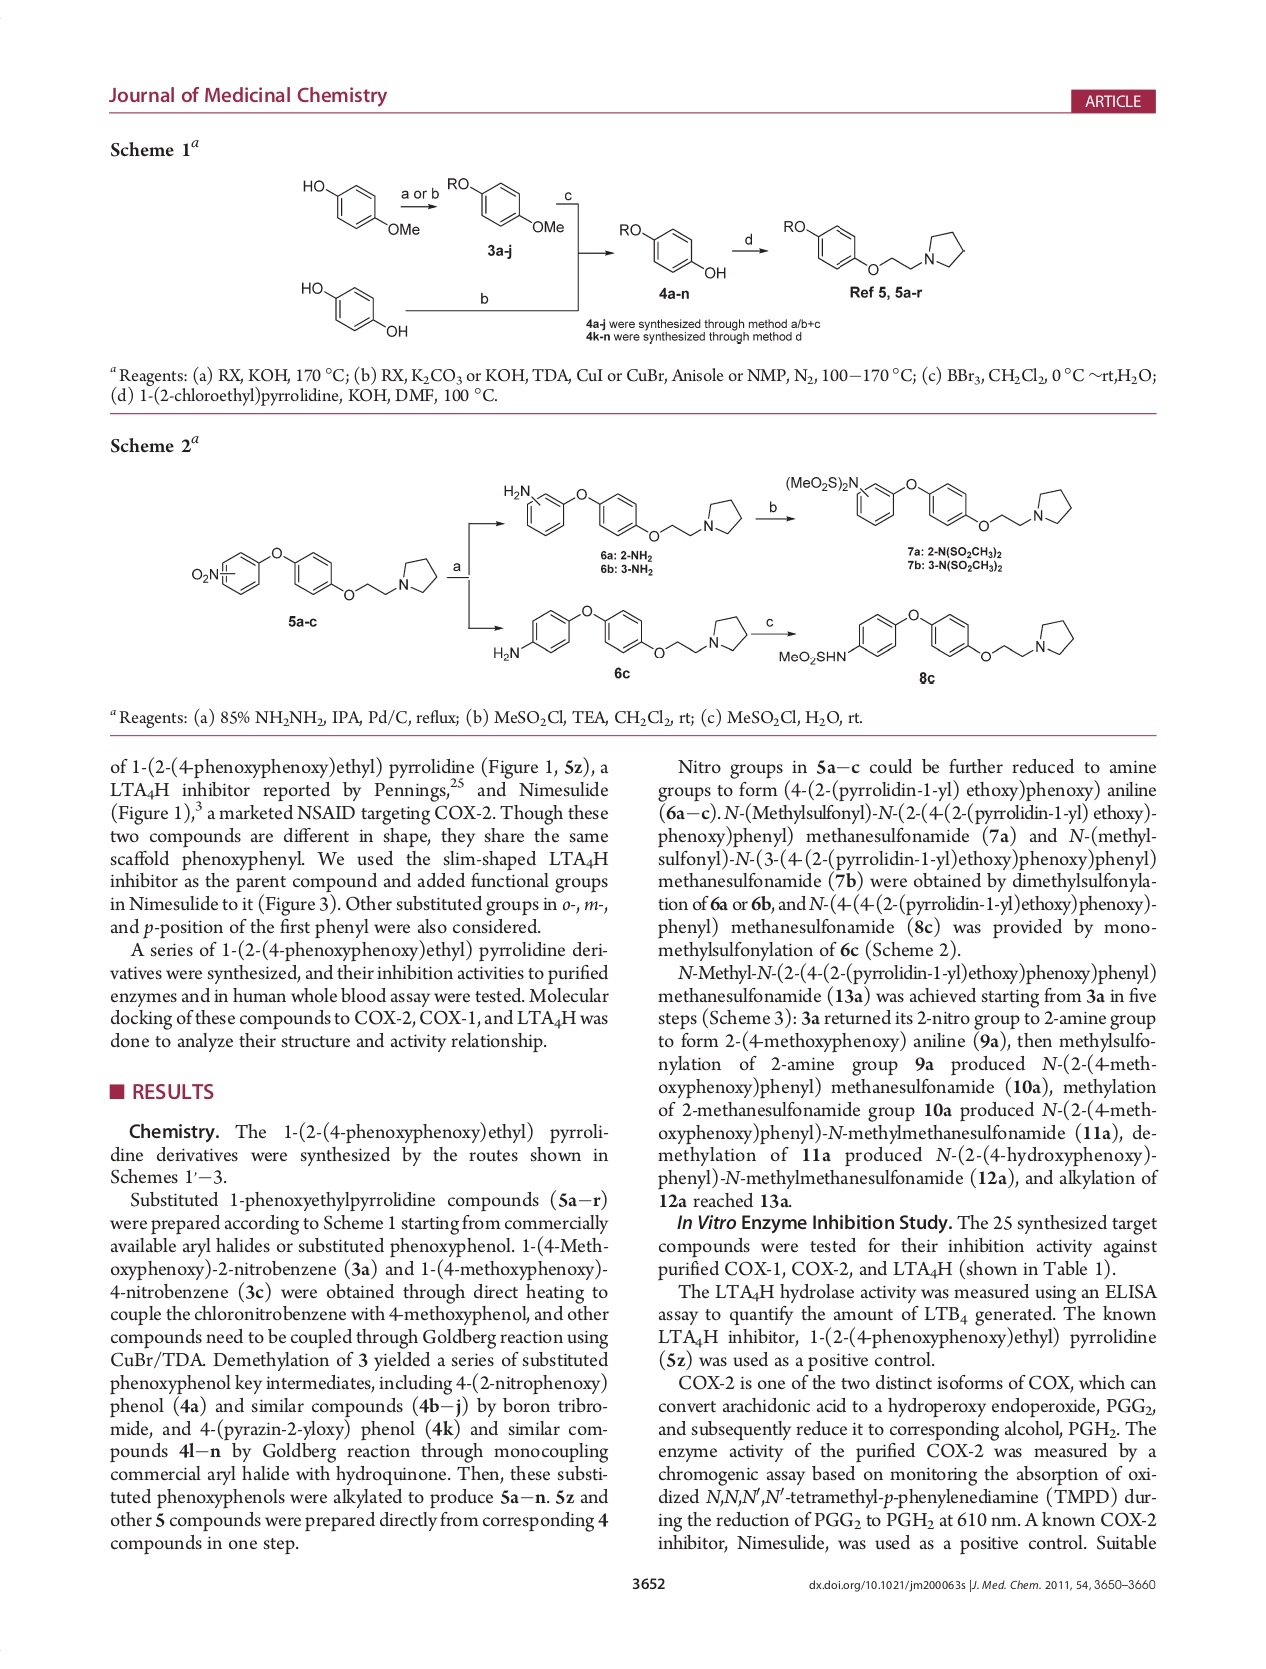exist_molecular: (785, 472, 1075, 536), (777, 606, 1076, 668), (489, 602, 749, 664), (501, 477, 745, 543), (189, 544, 440, 602), (781, 215, 968, 277), (442, 173, 567, 237), (297, 176, 420, 237), (616, 217, 729, 283), (297, 277, 408, 339)
